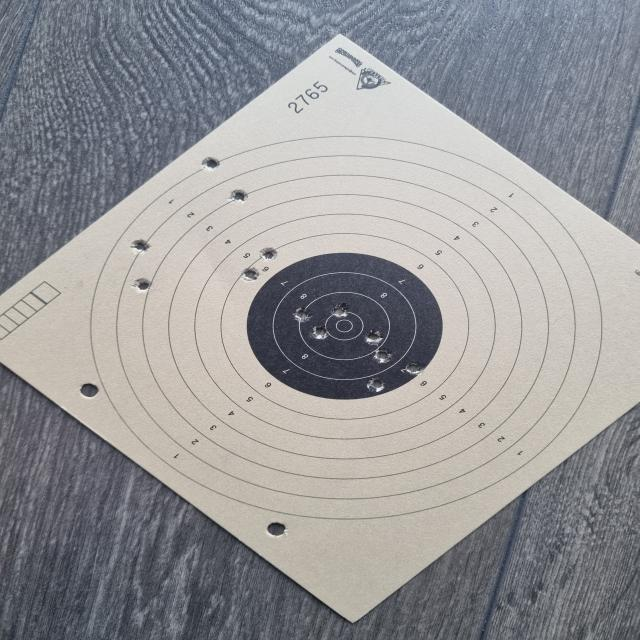1: (200, 157, 220, 170)
10: (311, 326, 329, 340), (331, 304, 349, 317)
2: (226, 189, 248, 203), (131, 239, 151, 252)
3: (131, 278, 151, 291)
6: (259, 247, 277, 261), (240, 268, 259, 280)
7: (367, 378, 385, 392), (405, 361, 423, 374)
8: (374, 350, 392, 363)
9: (364, 330, 383, 345), (292, 308, 310, 322)
Target: (89, 135, 602, 519)
black_contour: (246, 252, 443, 400)
